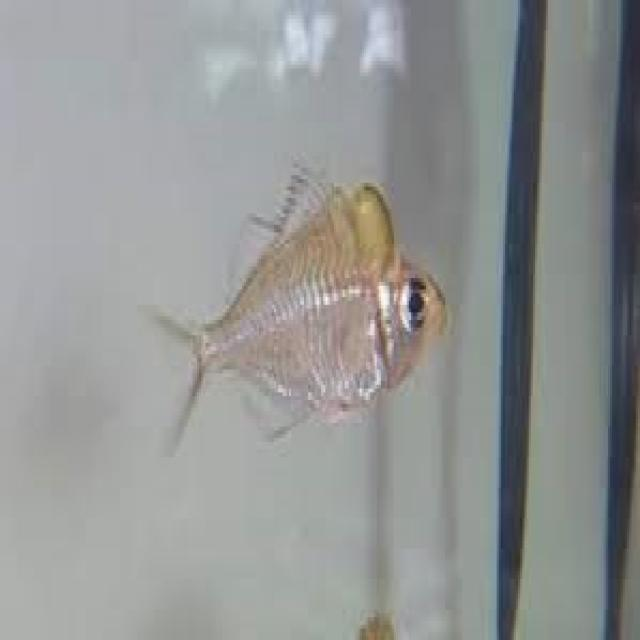Glass-Perchlet: (92, 126, 512, 514)
